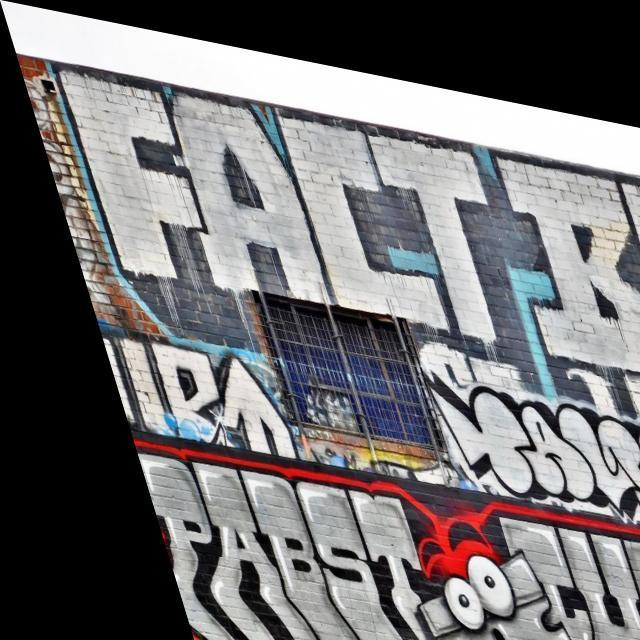-: (34, 56, 640, 440), (105, 435, 438, 640), (403, 348, 640, 526), (364, 494, 568, 640), (78, 319, 280, 460)
